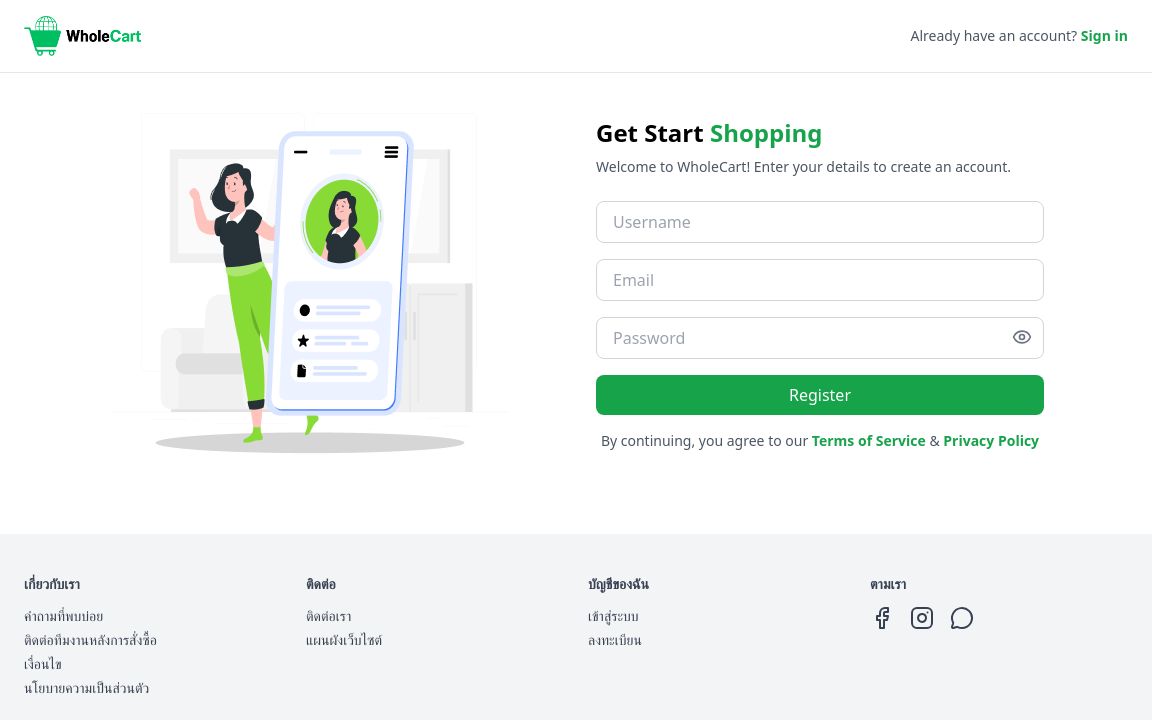
SignUpPage › shows success modal on valid registration
In the field with placeholder "Username": [820, 222] box [596,200,1044,242], type "John"
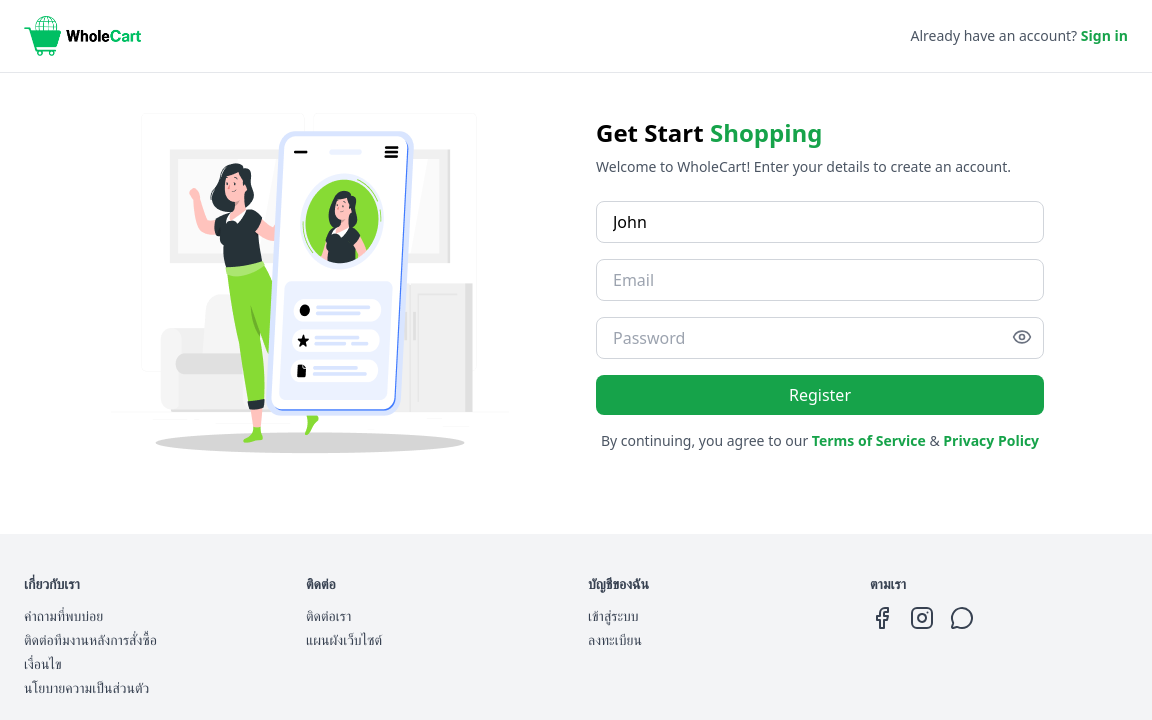
In the field with placeholder "Email": [820, 280] box [596,258,1044,300], type "john@example.com"
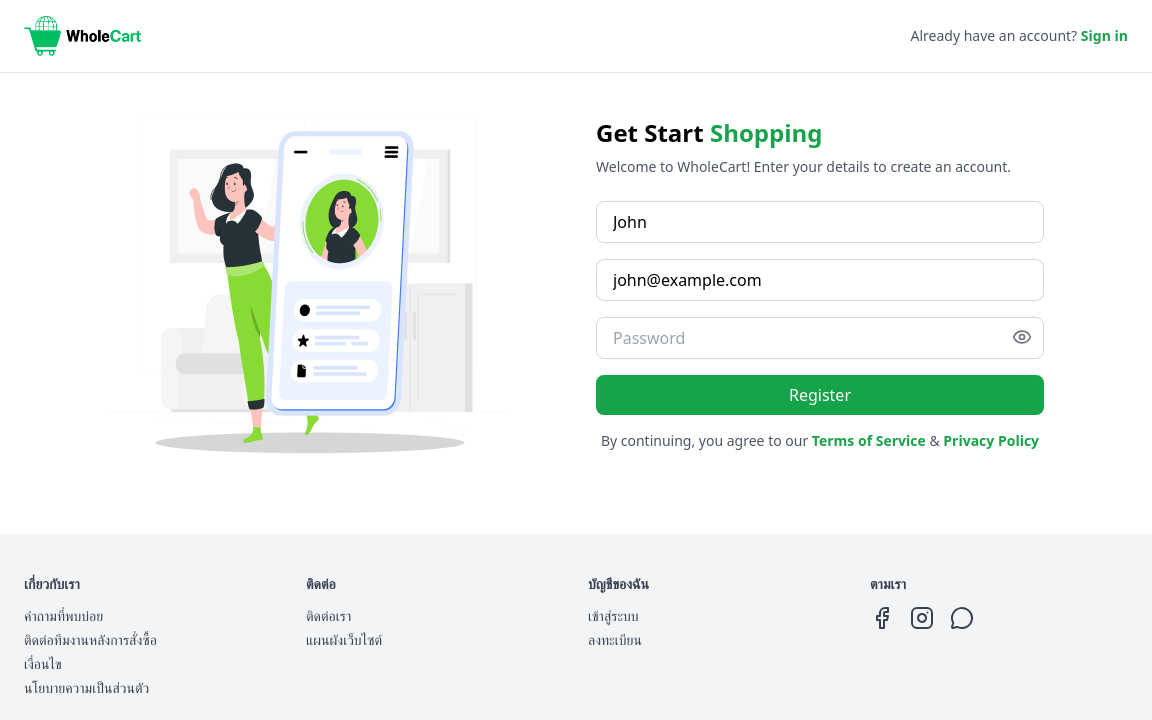
In the password field with placeholder "Password": [820, 338] box [596,316,1044,358], type "password123"
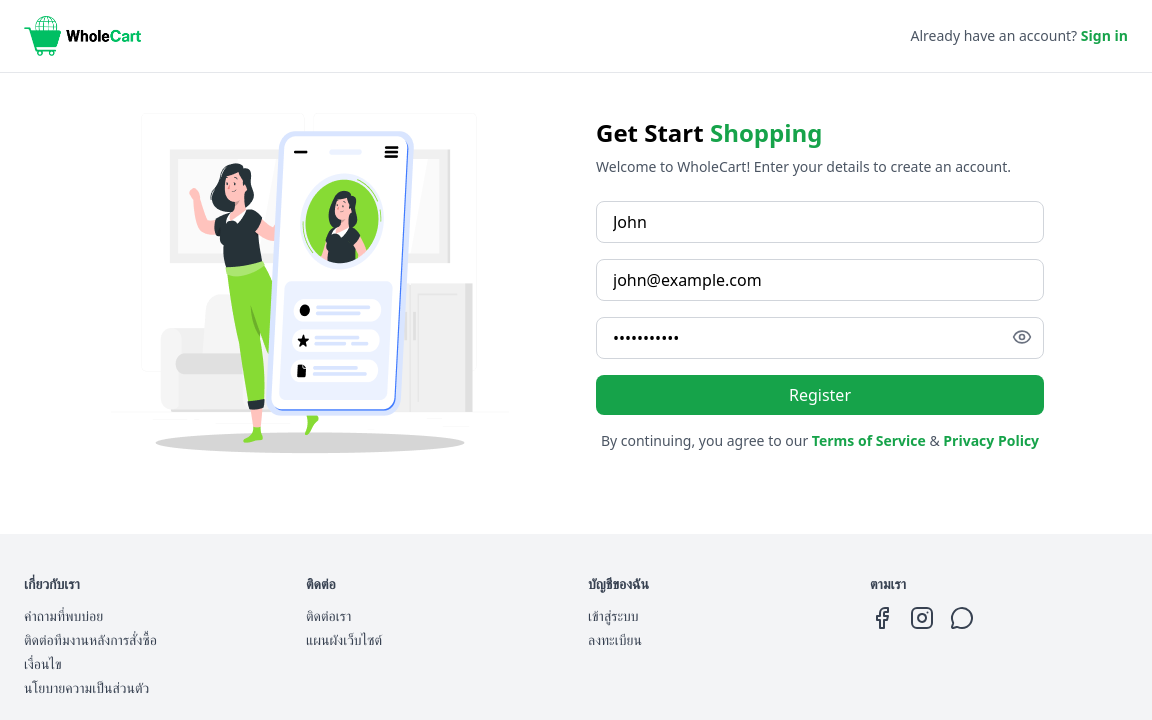
Click the button "Register": [820, 394] box [596,374,1044,414]
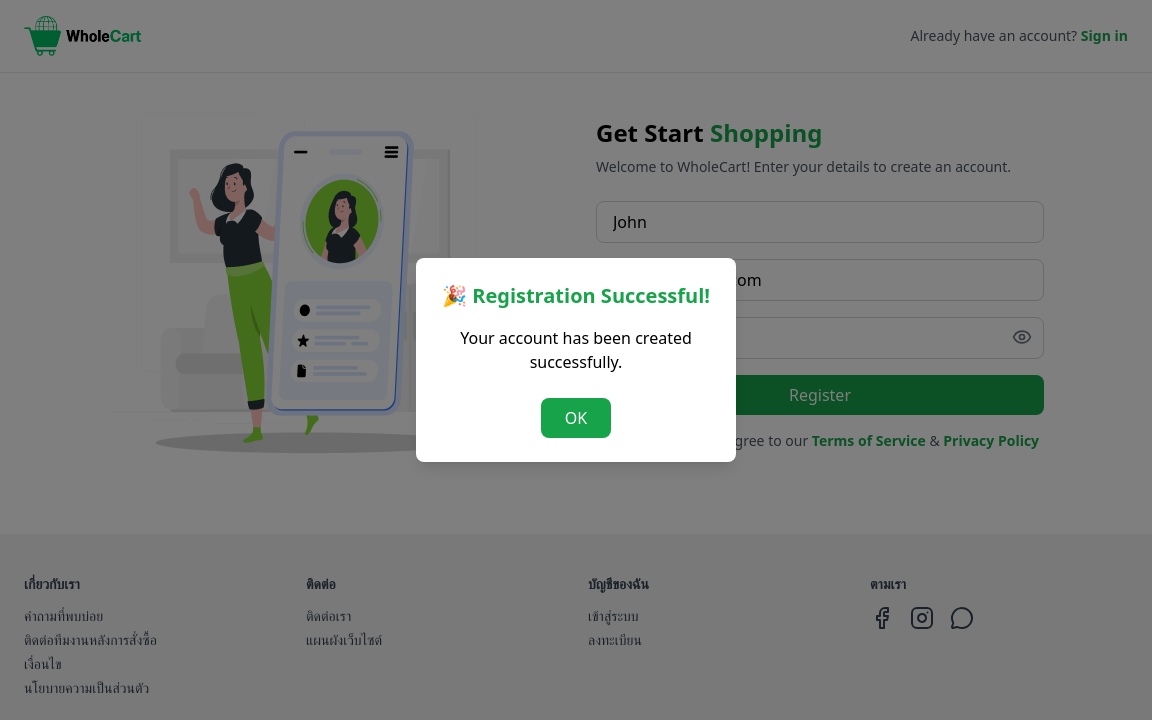
Check: the heading "🎉 Registration Successful!" is shown, box [440,282,712,310]
Click the button "OK": [576, 418] box [541,398,611,438]
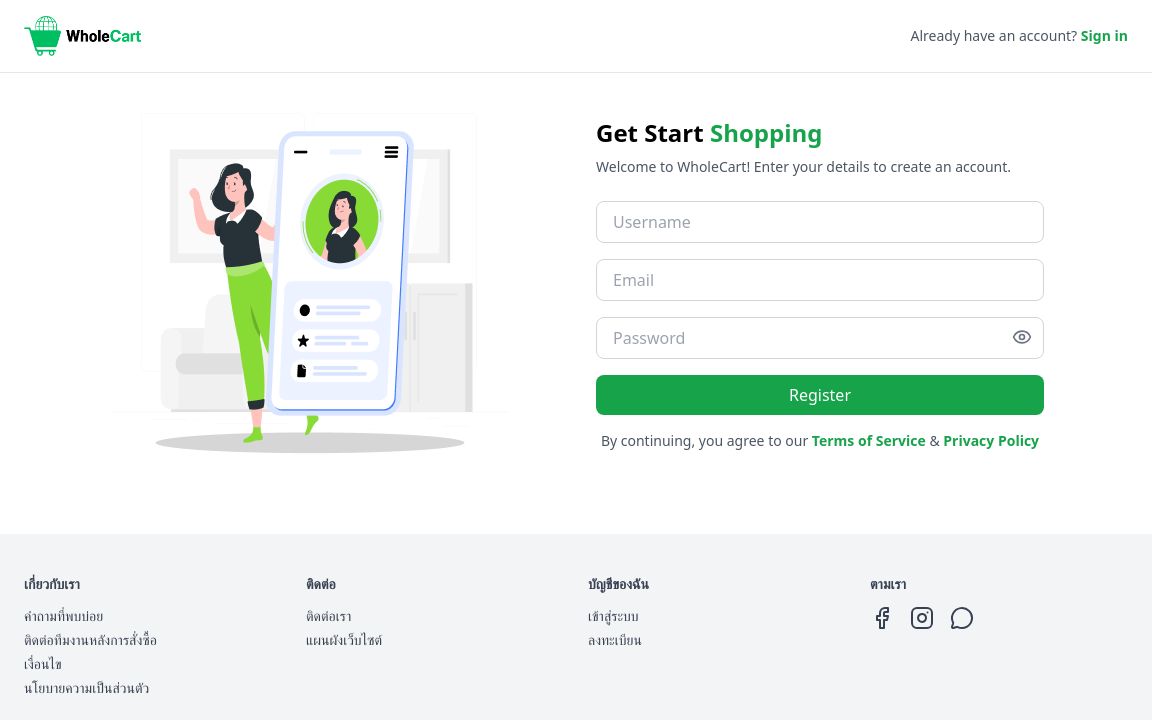
Check: the heading "Registration Successful" is gone
